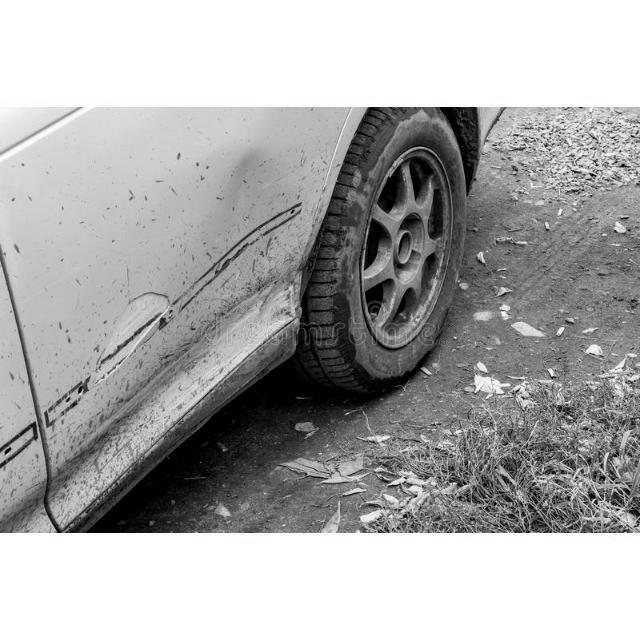doorouter-dent: (3, 109, 341, 449)
